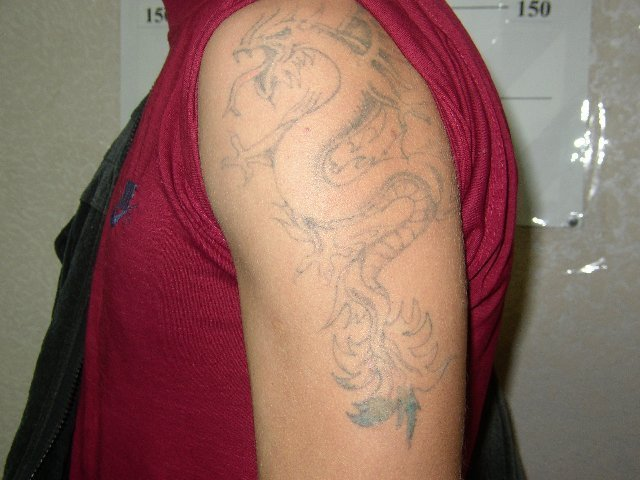tatu6_drakon: (202, 7, 543, 445)
